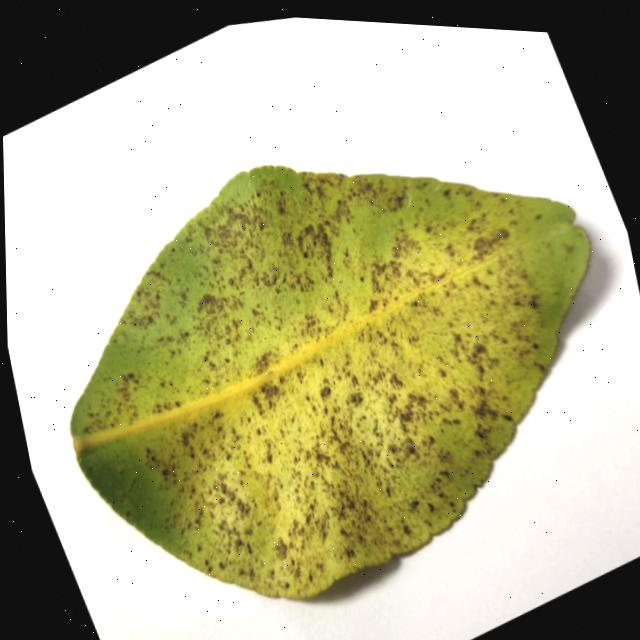melanose: (71, 166, 589, 598)
